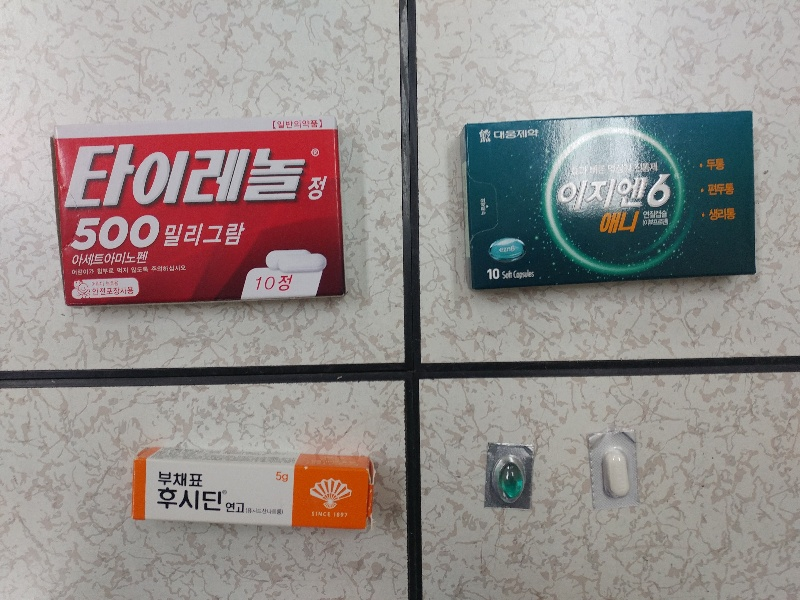ezn: (461, 110, 756, 290)
fucidin: (132, 447, 371, 532)
pill_ezn: (486, 443, 532, 507)
pill_tylenol: (587, 431, 641, 508)
tylenol: (52, 116, 348, 306)
